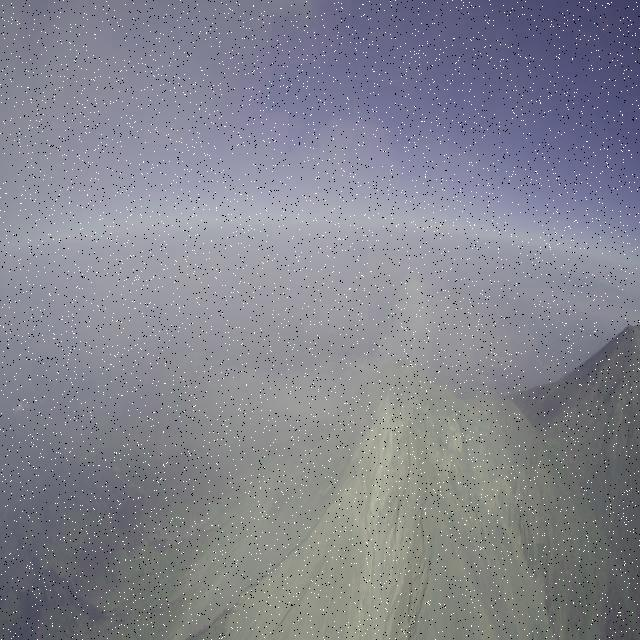Summit: (336, 354, 466, 497)
